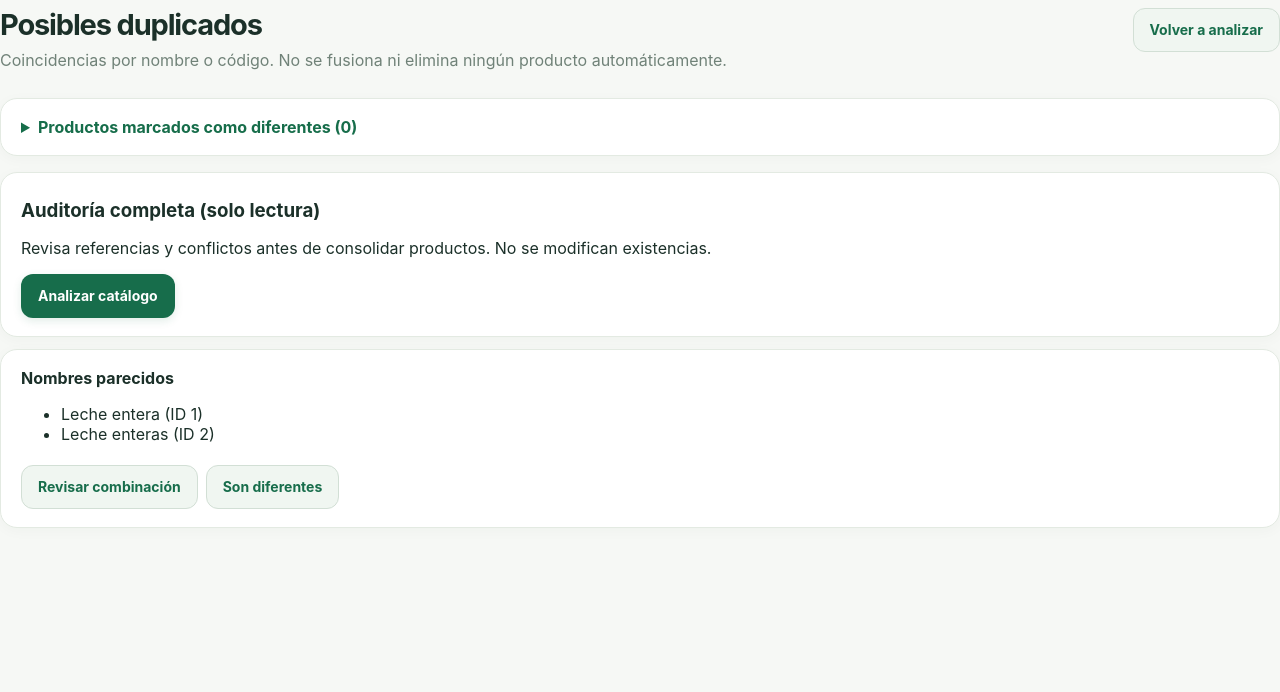
Scenario: locks a lost merge response and never retries the write
Click the button "Revisar combinación".
click(109, 487)  # box [21,465,198,509]
(page scrolled)
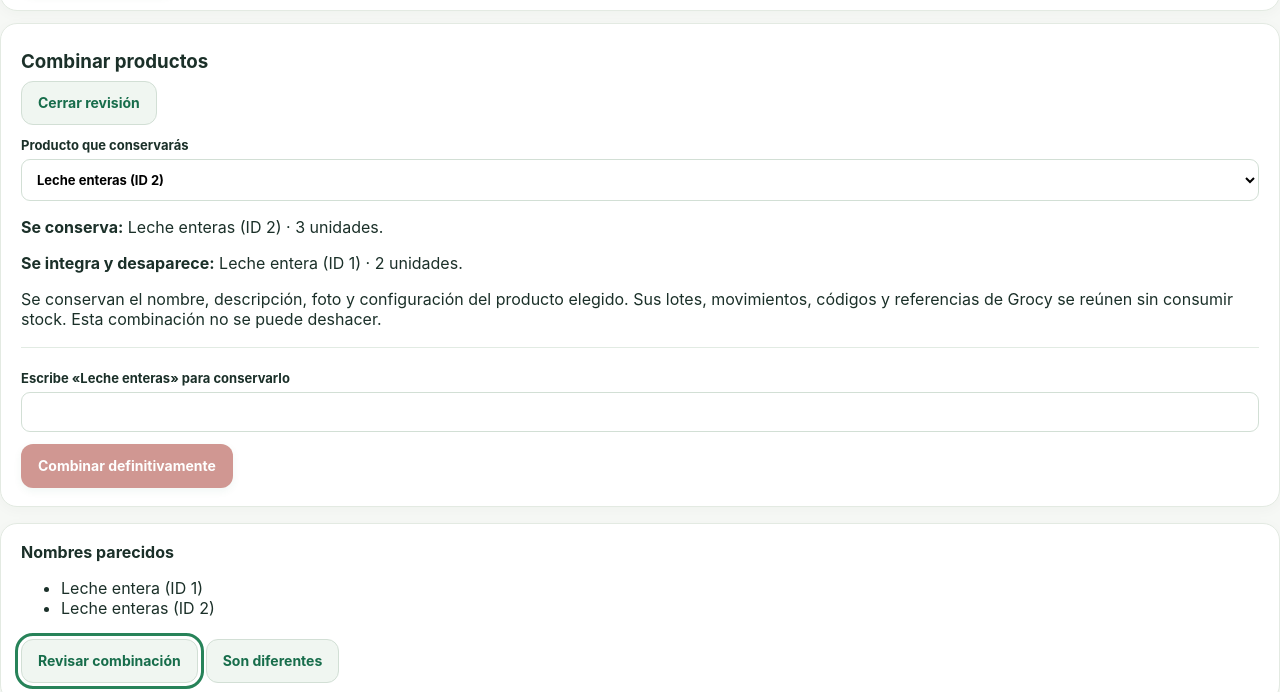
Type "Leche enteras" into the field.
click(640, 412); type("Leche enteras")  # box [21,392,1259,432]
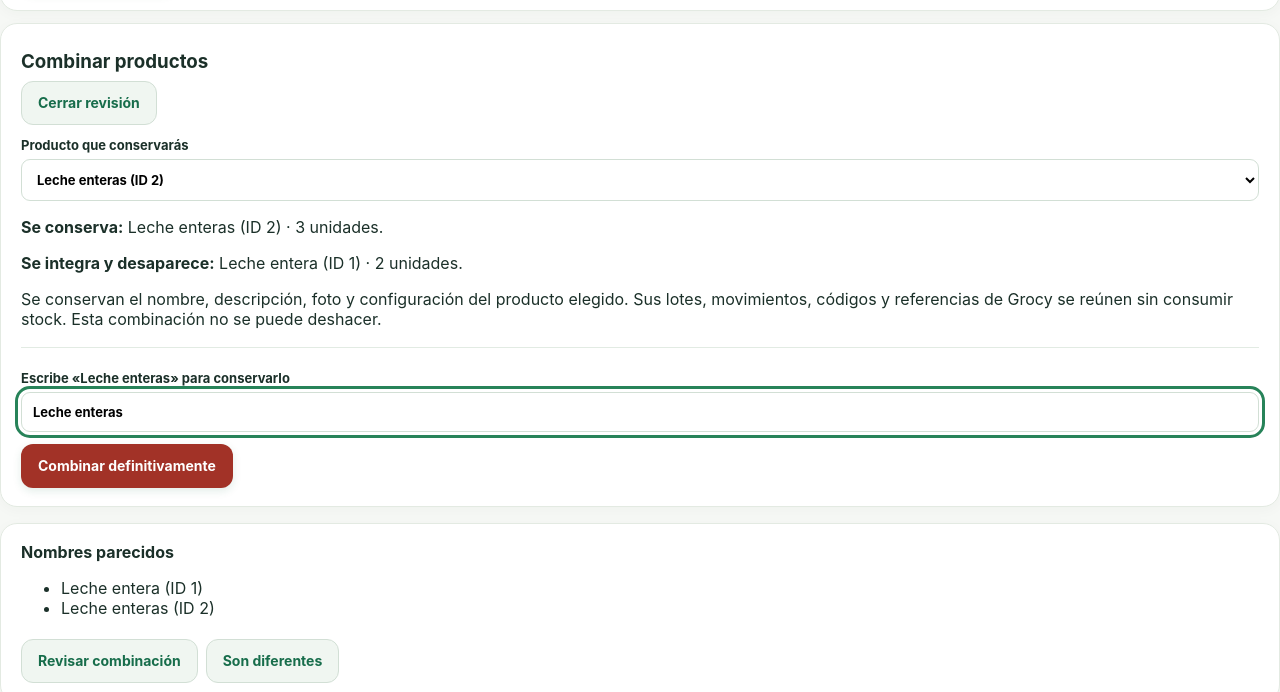
Click the button "Combinar definitivamente".
click(127, 466)  # box [21,444,233,488]
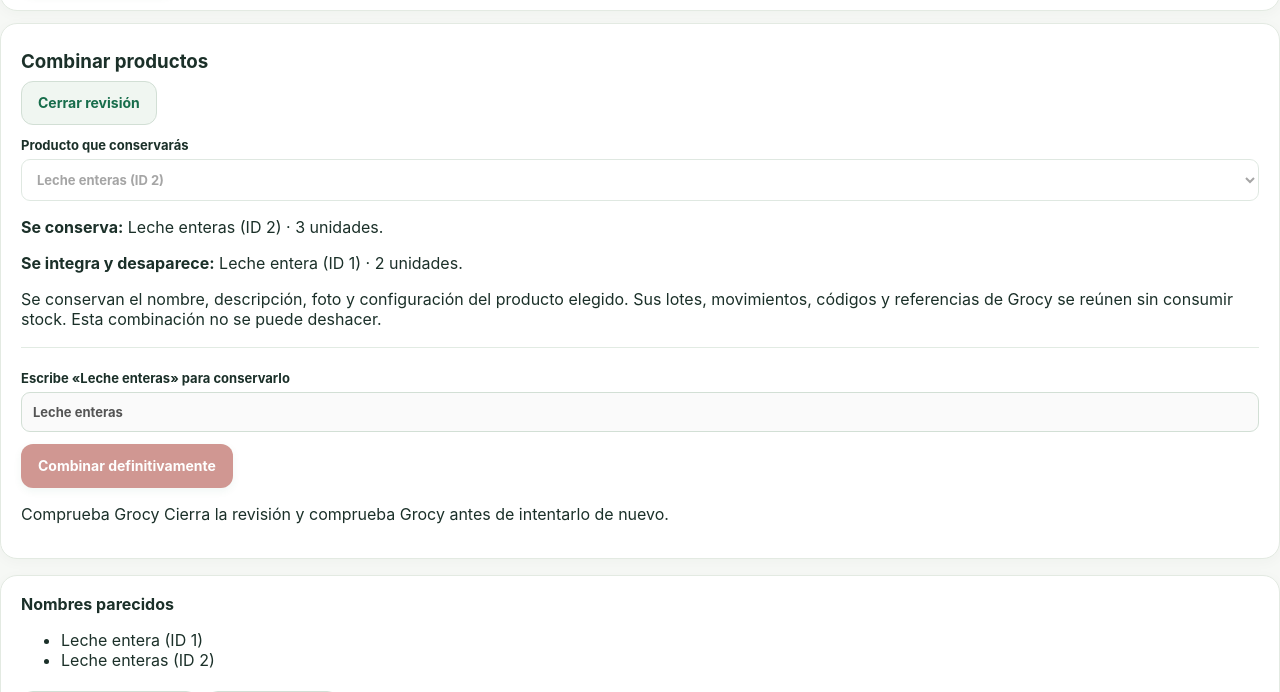
Check: the message is shown, box [21,504,669,524]
Check: the button "Combinar definitivamente" is disabled, box [21,444,233,488]
